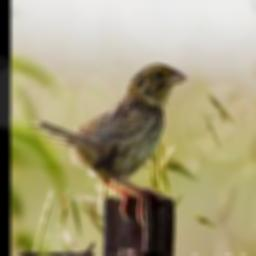Sparrow: (24, 62, 189, 226)
